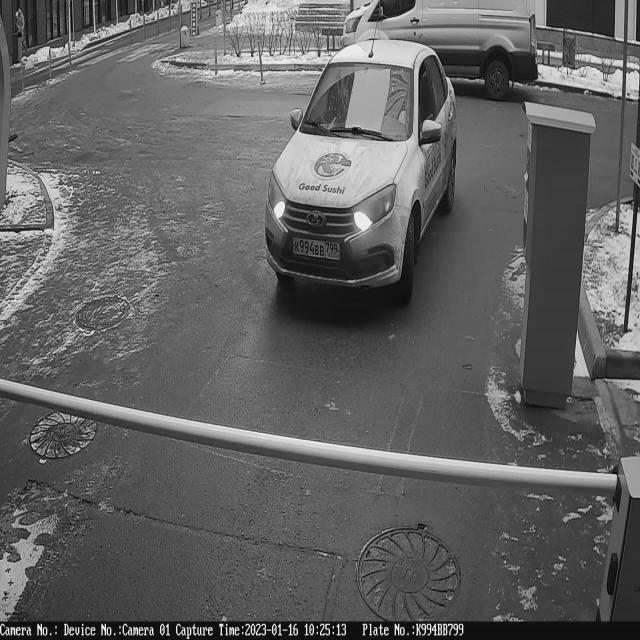car-plate-numbers: (292, 233, 343, 265)
